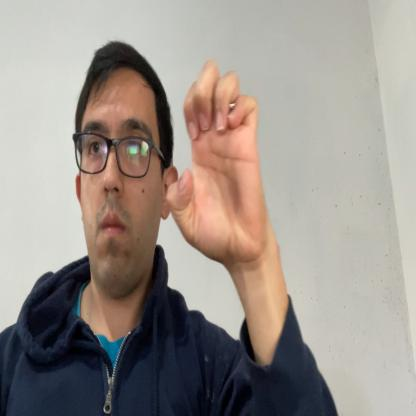E: (167, 57, 268, 264)
